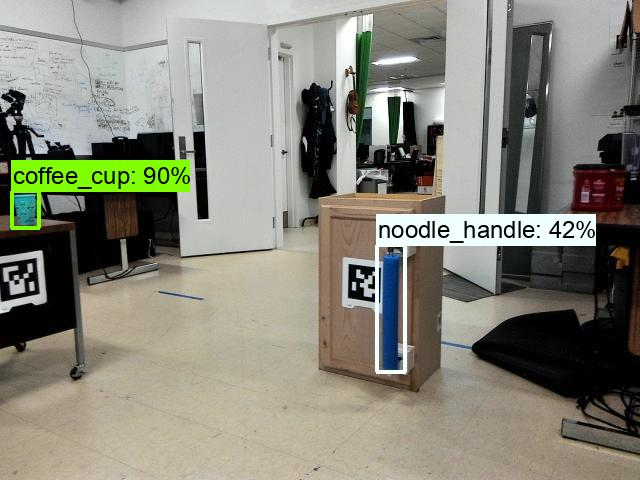coffee_cup: (12, 191, 40, 228)
noodle_handle: (378, 248, 399, 373)
